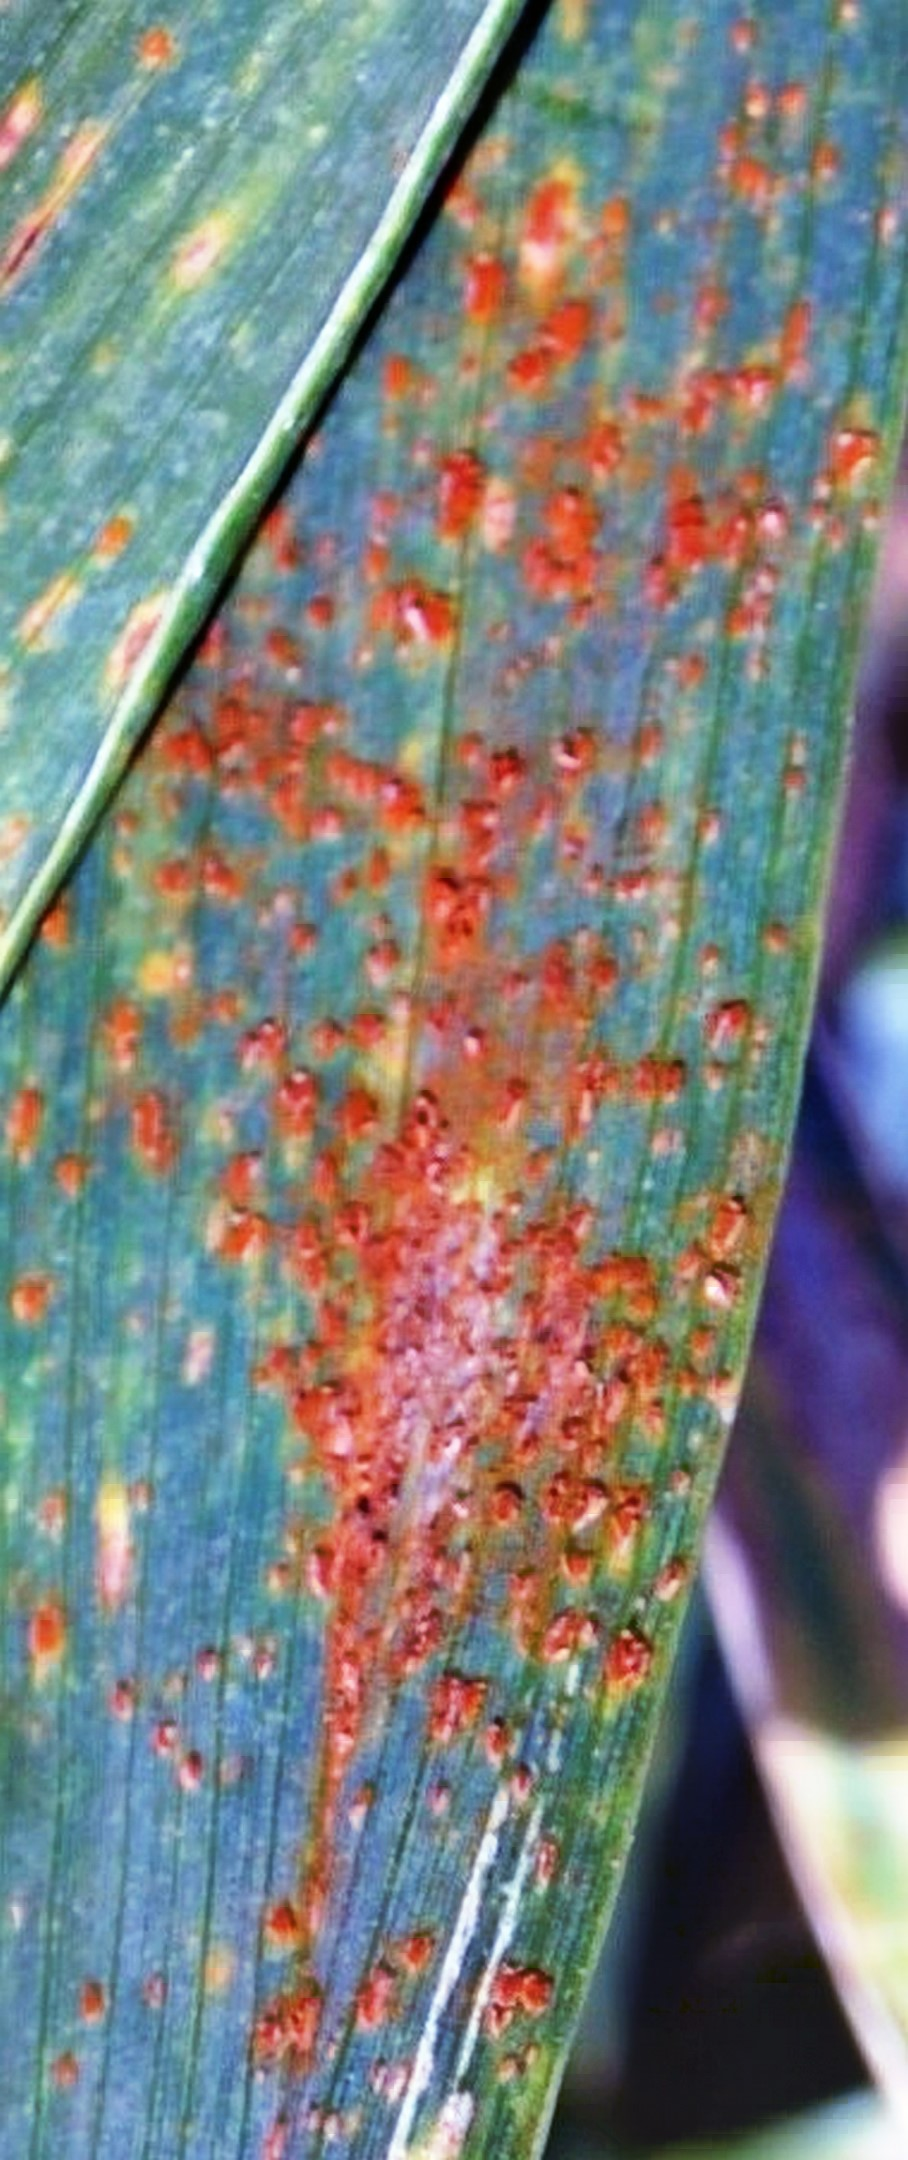Leaf Rust: (37, 225, 908, 2138)
